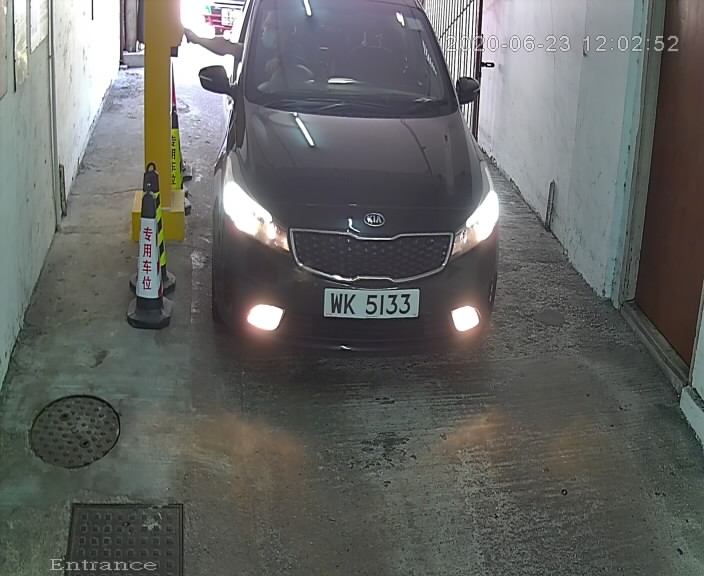privatecar: (179, 1, 518, 377)
